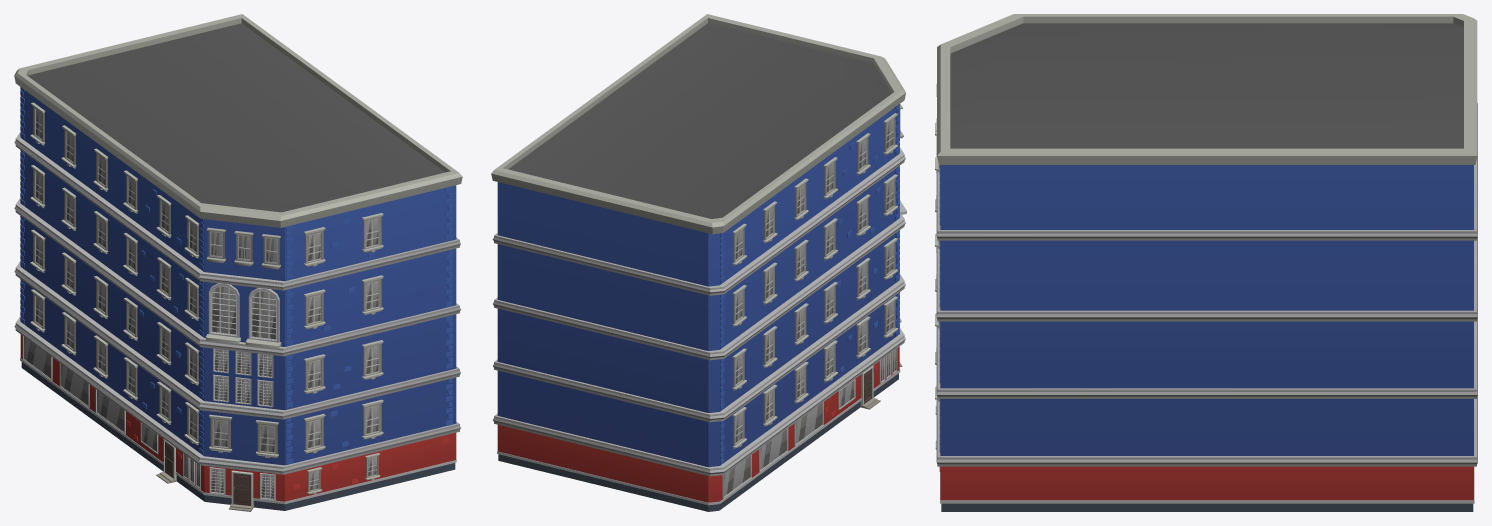
Rendered from Building_25_8_B.fbx.
3 views of the same model, side by side, from view 1: azimuth 30°, elevation 25°; view 2: azimuth 150°, elevation 25°; view 3: azimuth 270°, elevation 25° (orthographic). The views are drawn at different scales.
Visible parts, largest first — view 1: Building_25_8_B; view 2: Building_25_8_B; view 3: Building_25_8_B.
Boxes of the visible parts, x1,y1,x2,y2 form: Building_25_8_B: (14, 14, 462, 511); Building_25_8_B: (491, 14, 906, 511); Building_25_8_B: (935, 14, 1477, 511).
Bounding box in the file's own units: 1683 × 2014 × 2729.
